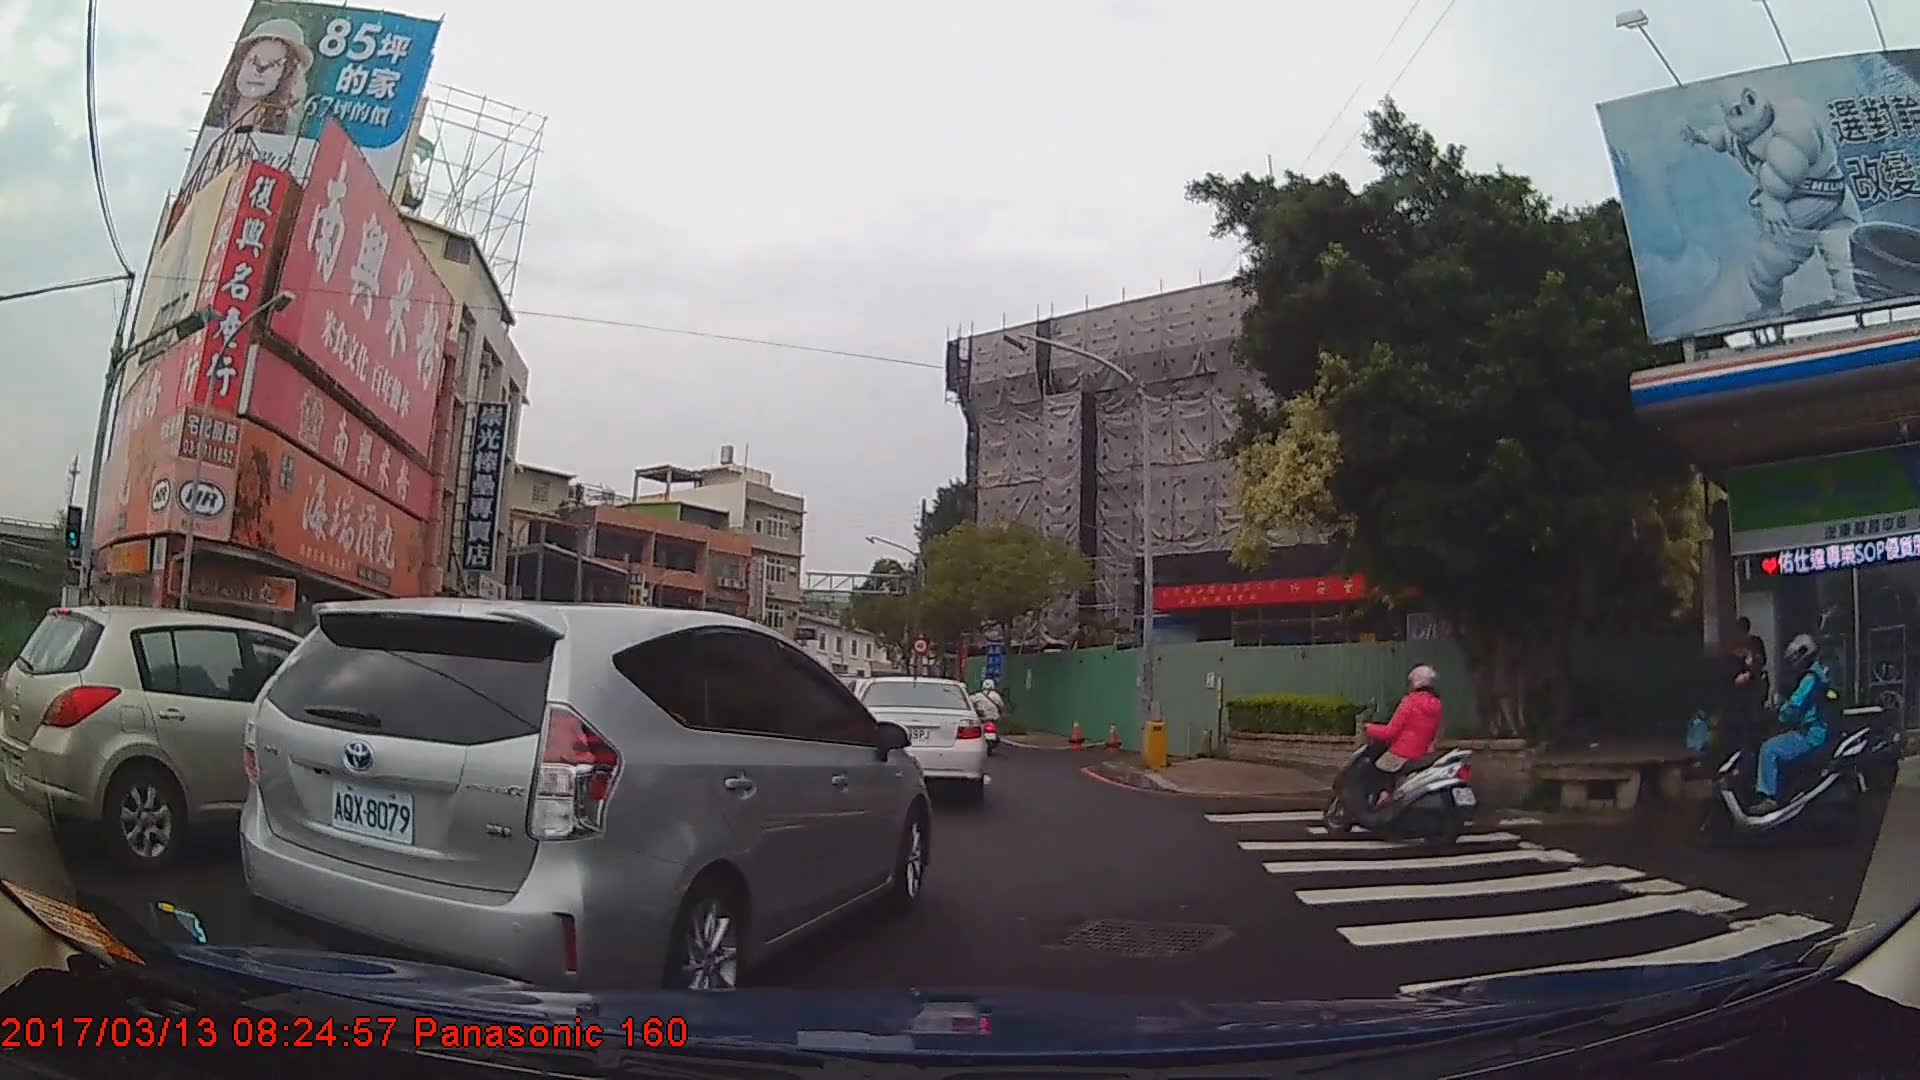pedestrian: (1713, 634, 1772, 816), (1719, 612, 1772, 755)
rider: (1687, 632, 1881, 847), (1319, 667, 1477, 846), (973, 681, 1007, 758)
vehicle: (236, 597, 933, 1004), (2, 603, 410, 868), (845, 677, 987, 808)
